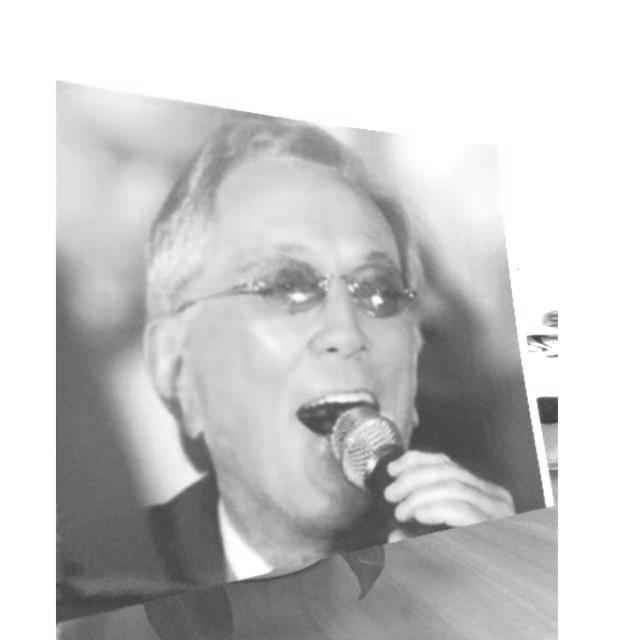fake: (57, 70, 556, 631)
